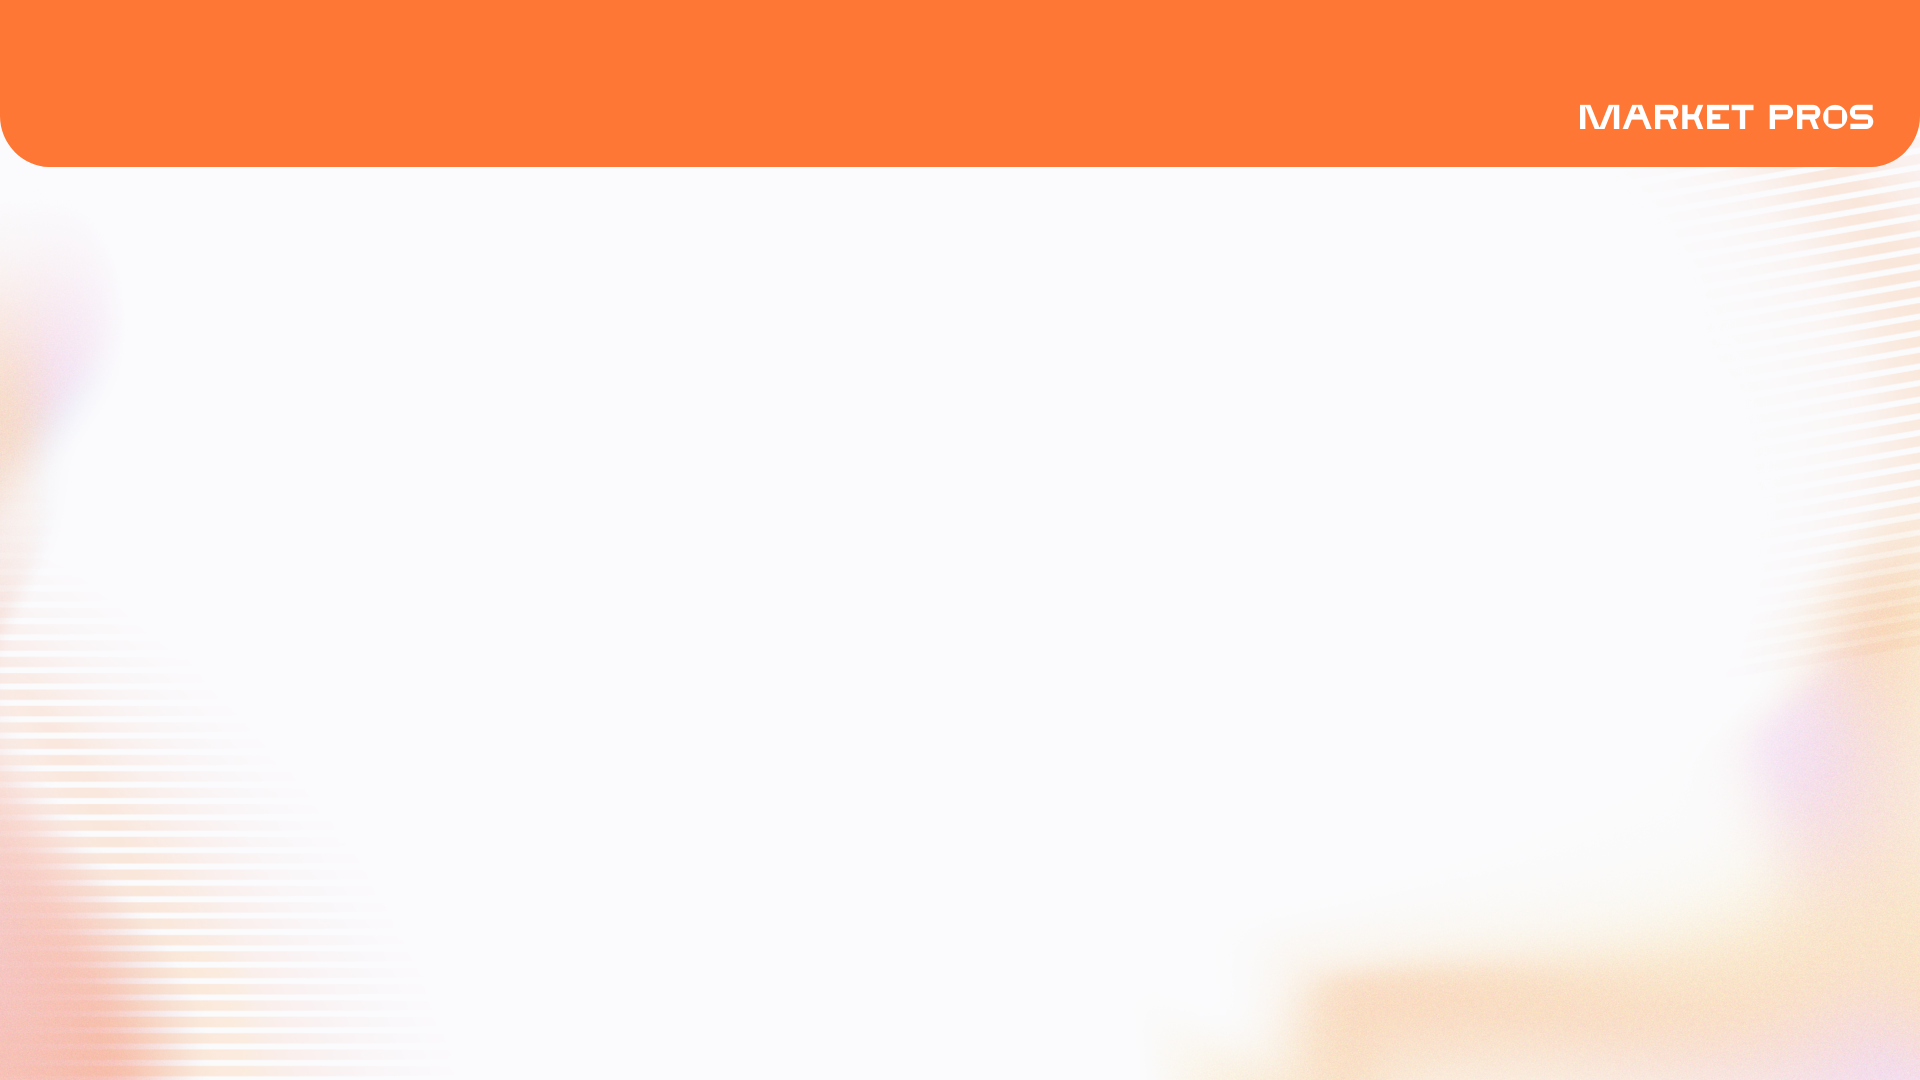

What the dashboard file says about the page in this screenshot:
{"tool":"powerbi","page":{"name":"Template","canvas":[1280,720],"ordinal":0},"visuals":[{"type":"textbox","box":[56.2,67.5,148.8,55],"z":0},{"type":"textbox","box":[216.2,71.2,141.2,31.2],"z":1000},{"type":"textbox","box":[357.5,68.8,141.2,31.2],"z":2000},{"type":"slicer","fields":{"Values":["Calendar.Year"]},"box":[510,21.2,143.8,80],"z":3000},{"type":"slicer","fields":{"Values":["Calendar.Month"]},"box":[655,21.2,146.2,78.8],"z":4000},{"type":"slicer","title":"State","fields":{"Values":["Employees.State"]},"box":[801.2,21.2,208.8,66.2],"z":5000}]}

Visuals, with their boxes in screenshot pixels (x1, y1, x2, y2), scaled from the page's 1280x720 canvas onto the 1920x1080 screenshot:
textbox: {"x1": 84, "y1": 101, "x2": 308, "y2": 184}
textbox: {"x1": 324, "y1": 107, "x2": 536, "y2": 154}
textbox: {"x1": 536, "y1": 103, "x2": 748, "y2": 150}
slicer - Calendar.Year: {"x1": 765, "y1": 32, "x2": 981, "y2": 152}
slicer - Calendar.Month: {"x1": 982, "y1": 32, "x2": 1202, "y2": 150}
"State" slicer: {"x1": 1202, "y1": 32, "x2": 1515, "y2": 131}
